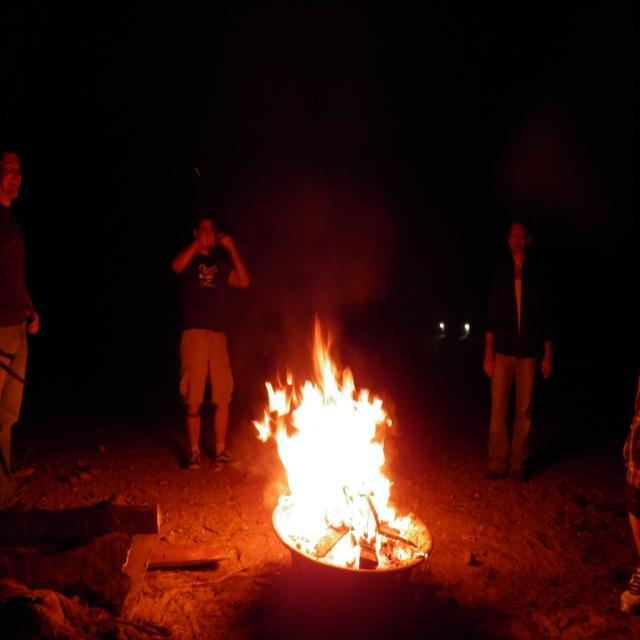Fire: (253, 318, 424, 572)
